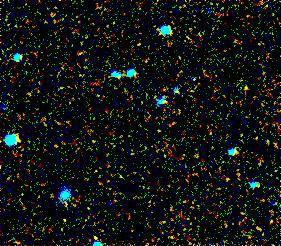star: (232, 74, 262, 104)
